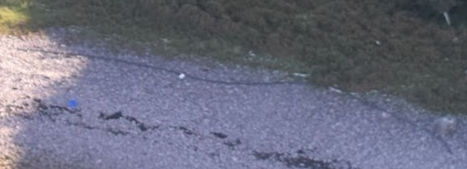tube: (311, 80, 451, 153), (12, 43, 173, 71), (174, 67, 303, 88)
white_in_green: (126, 85, 170, 130), (56, 86, 94, 122)
